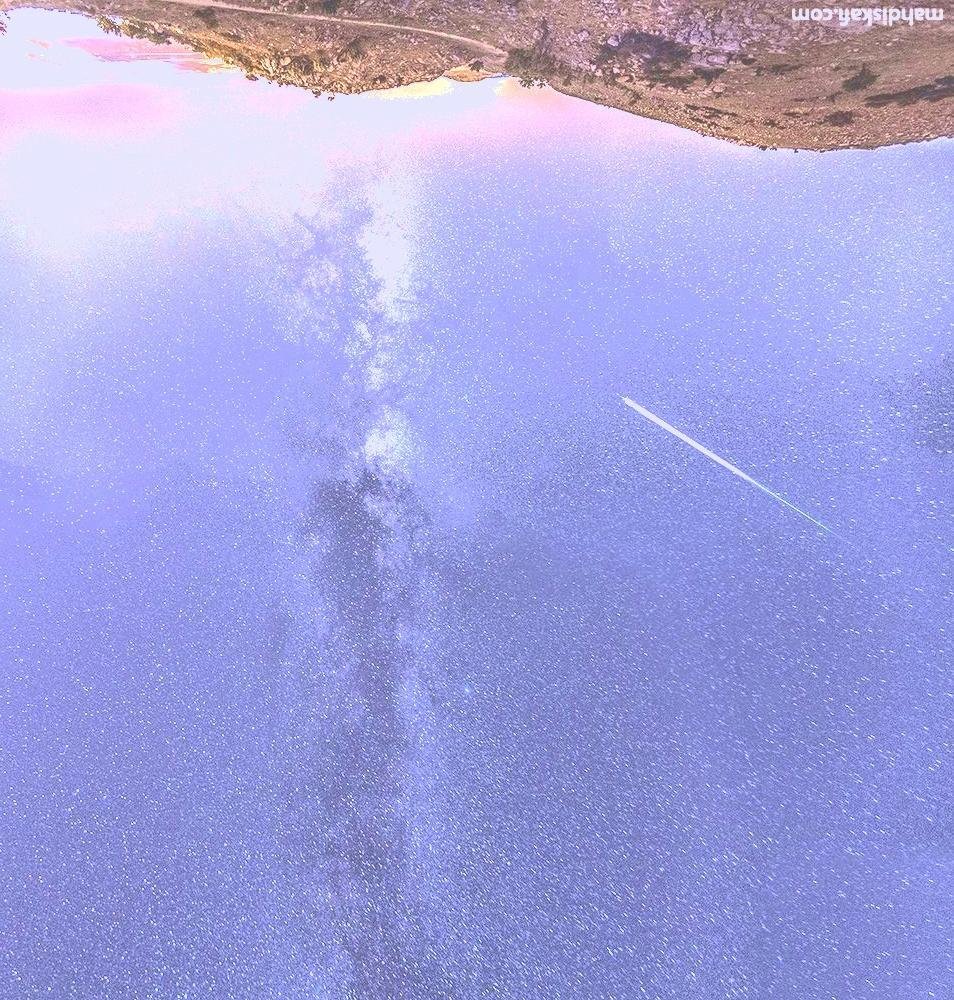meteorite: (589, 377, 875, 552)
